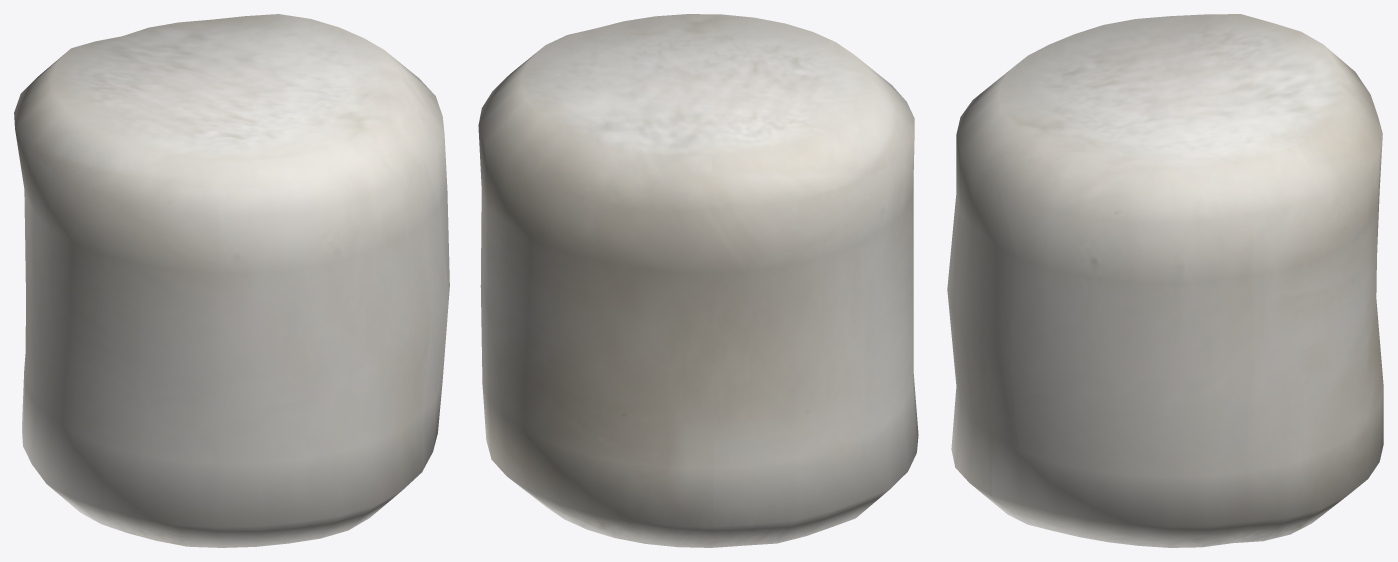
Rendered from KindledSpirits-Marshmallow.fbx.
The picture shows the model from 3 angles, left to right: view 1: azimuth 30°, elevation 25°; view 2: azimuth 150°, elevation 25°; view 3: azimuth 270°, elevation 25°; orthographic projection. The views are drawn at different scales.
Parts seen in each view (by area): view 1: Marshmallow-LOD0; view 2: Marshmallow-LOD0; view 3: Marshmallow-LOD0.
Boxes of the visible parts, x1=… form: Marshmallow-LOD0: x1=14, y1=14, x2=449, y2=547; Marshmallow-LOD0: x1=478, y1=14, x2=918, y2=547; Marshmallow-LOD0: x1=947, y1=14, x2=1383, y2=547.
Size of what is drawn, in the model's own units: 13.04 by 13.18 by 12.97.
